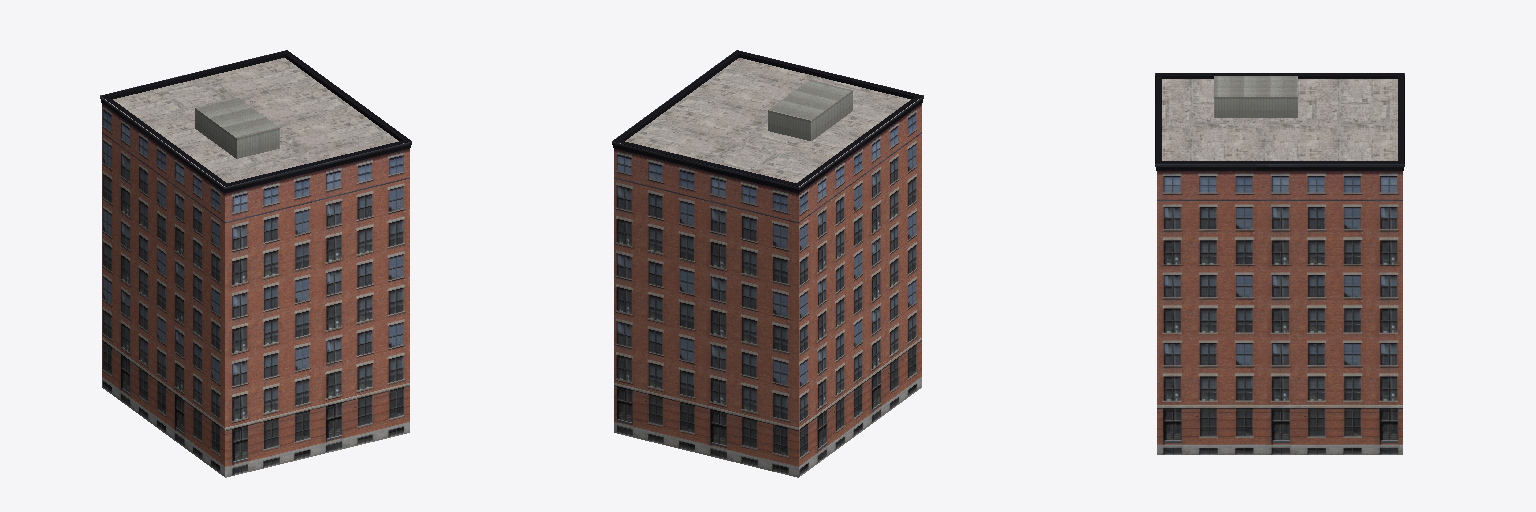
3 renders of one model, left to right at view 1: azimuth 30°, elevation 25°; view 2: azimuth 150°, elevation 25°; view 3: azimuth 270°, elevation 25°, orthographic.
Visible parts, largest first — view 1: building_36; view 2: building_36; view 3: building_36.
Part boxes in pixels (left/top/right/bottom): building_36: left=100, top=50, right=411, bottom=477; building_36: left=612, top=50, right=923, bottom=477; building_36: left=1155, top=73, right=1404, bottom=454.
Size of the model in its own units: 59.05 by 92.87 by 68.2.
1 materials, 1 textured.